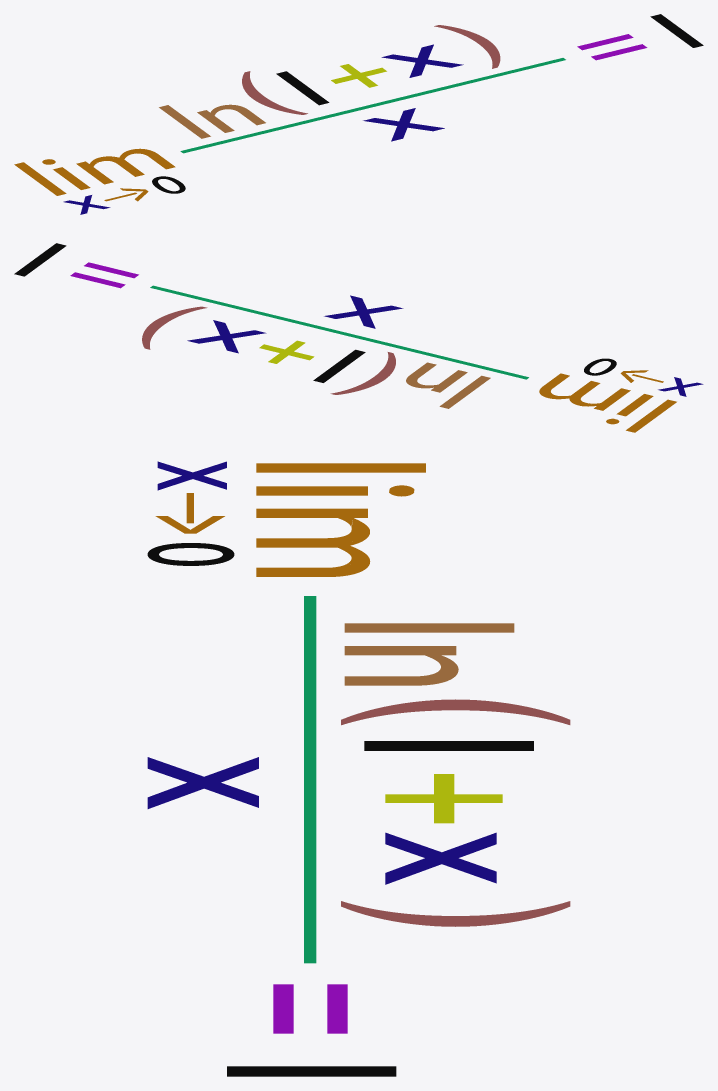
3 renders of one model, top to bottom at view 1: azimuth 30°, elevation 25°; view 2: azimuth 150°, elevation 25°; view 3: azimuth 270°, elevation 25°, orthographic. The views are drawn at different scales.
Visible parts, largest first — view 1: LR 3; view 2: LR 3; view 3: LR 3.
Boxes of the visible parts, bbox=[...] form: LR 3: bbox=[14, 14, 703, 214]; LR 3: bbox=[14, 243, 703, 432]; LR 3: bbox=[147, 461, 570, 1076].
Size of the model in its own units: 5.86 by 0.000113 by 1.7.
